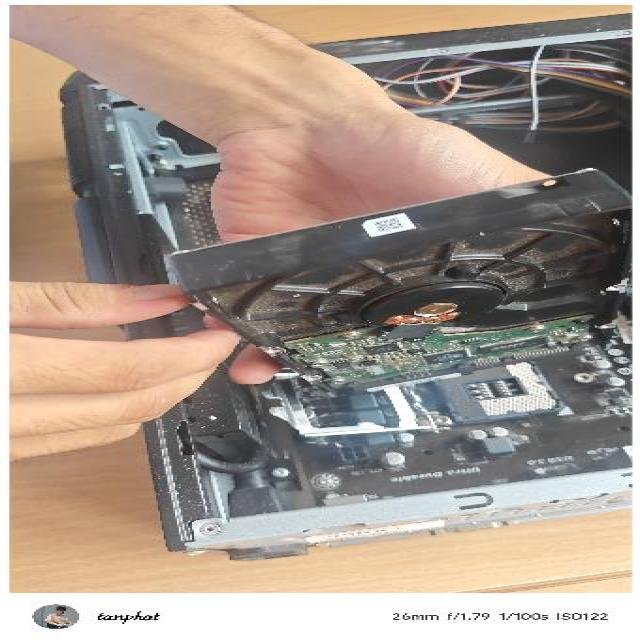DISK: (154, 165, 640, 403)
